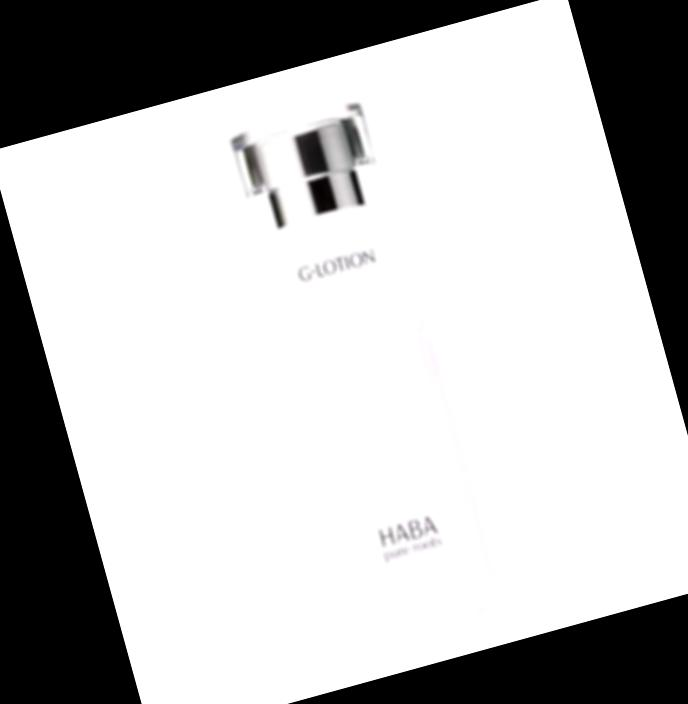cosmetic: (222, 97, 507, 643)
